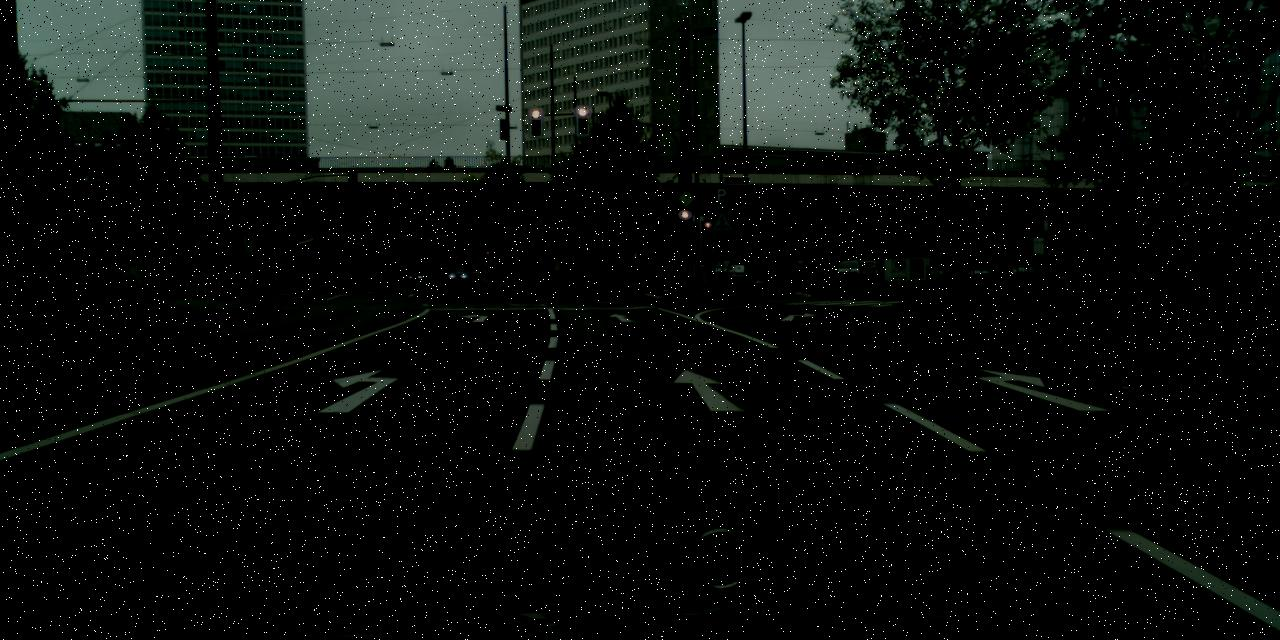ped: (563, 254, 578, 292)
